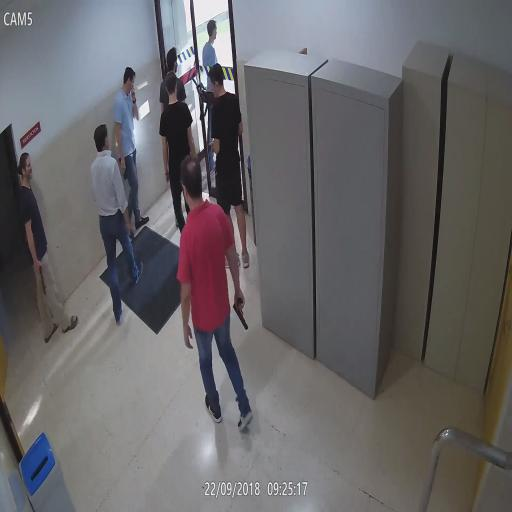Handgun: (230, 296, 249, 330), (116, 209, 125, 224)
